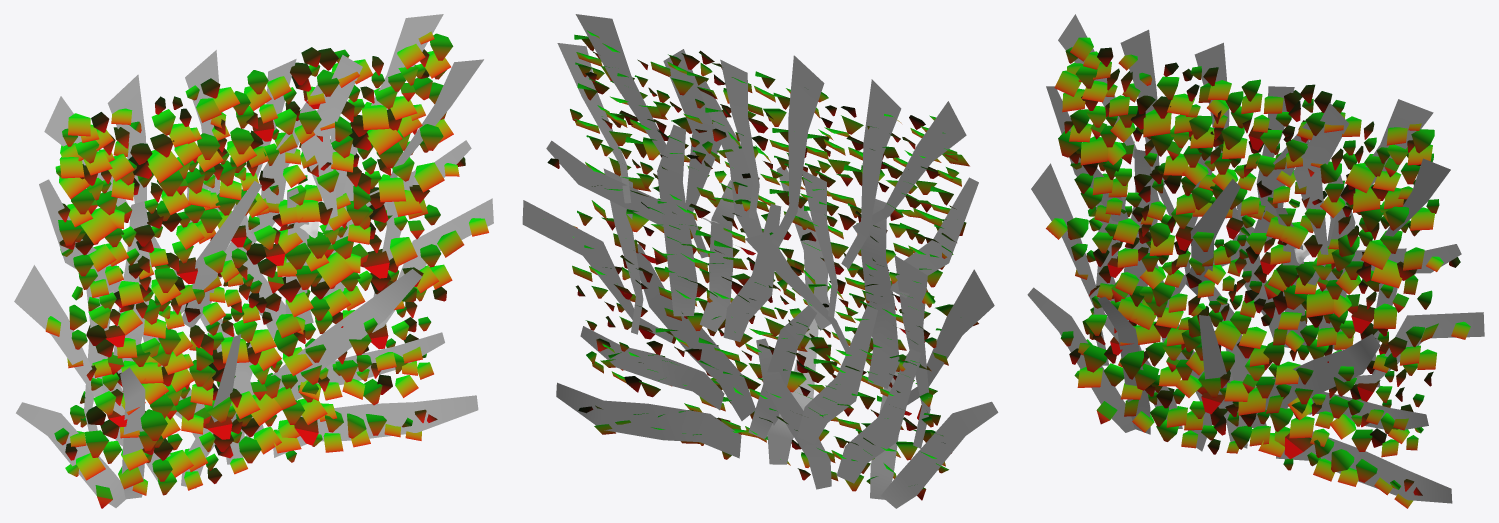
Rendered from Var2_LOD2.fbx.
3 views of the same model, side by side, from view 1: azimuth 30°, elevation 25°; view 2: azimuth 150°, elevation 25°; view 3: azimuth 330°, elevation 25° (orthographic). The views are drawn at different scales.
Visible parts, largest first — view 1: _d134_Var2_LOD2; view 2: _d134_Var2_LOD2; view 3: _d134_Var2_LOD2.
Part boxes in pixels (x1=…): _d134_Var2_LOD2: x1=14, y1=14, x2=493, y2=508; _d134_Var2_LOD2: x1=522, y1=14, x2=998, y2=508; _d134_Var2_LOD2: x1=1027, y1=14, x2=1484, y2=508.
Size of the model in its own units: 123 by 107 by 11.79.
